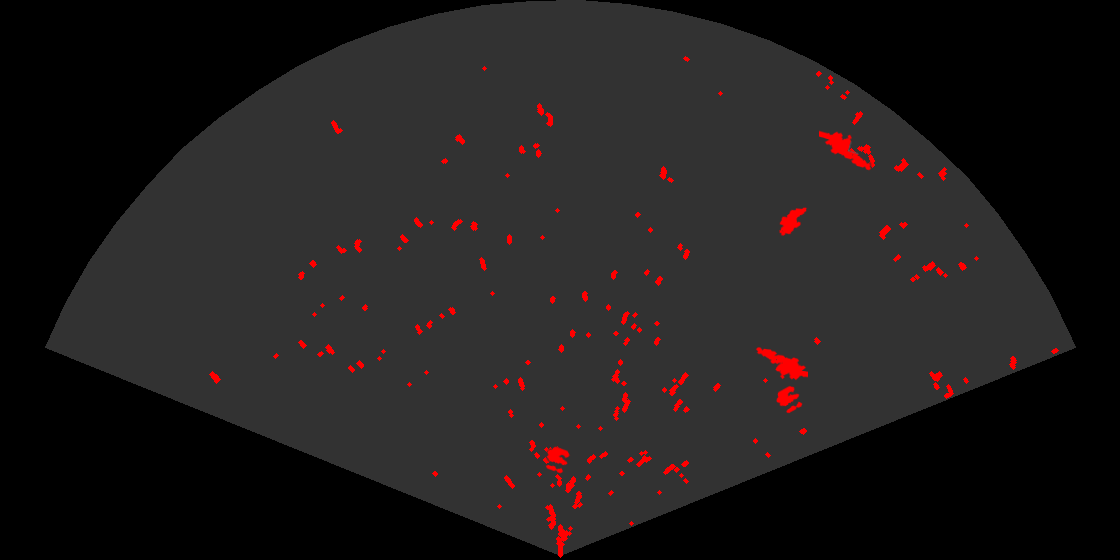AUV: (778, 206, 809, 238)
ball: (775, 384, 804, 415), (544, 445, 572, 475)
frogman: (819, 129, 873, 172), (754, 346, 808, 382)
